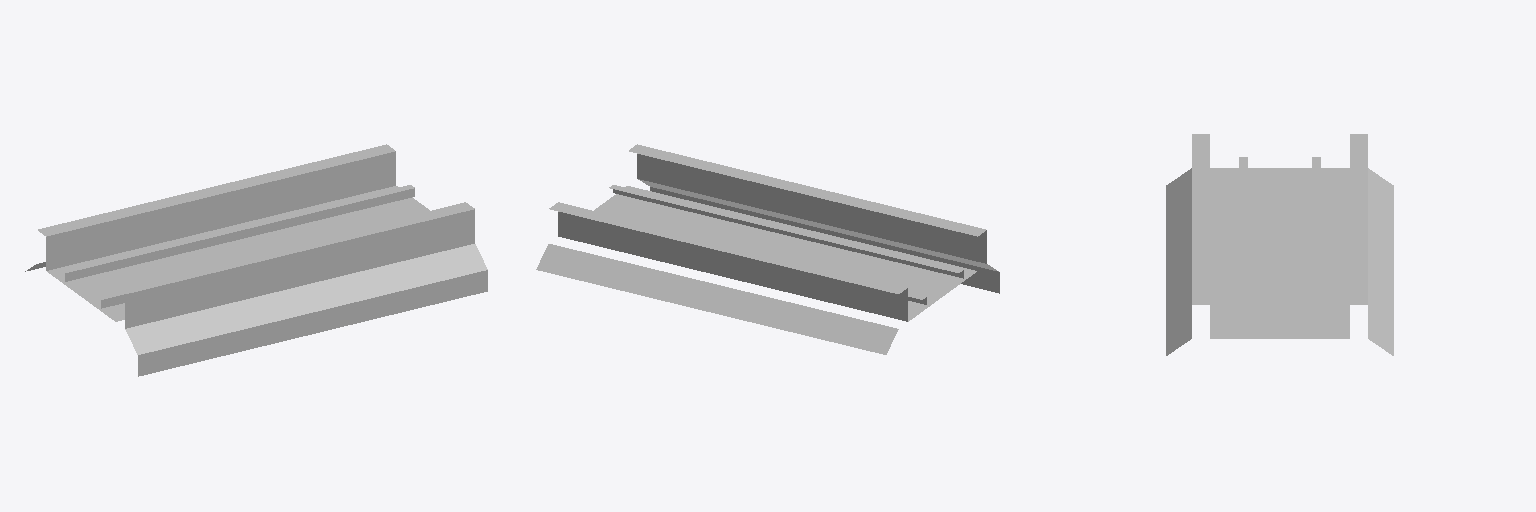
The model's file is Benches.obj.
3 renders of one model, left to right at view 1: azimuth 30°, elevation 25°; view 2: azimuth 150°, elevation 25°; view 3: azimuth 270°, elevation 25°, orthographic.
Parts seen in each view (by area): view 1: polygon0; view 2: polygon0; view 3: polygon0.
Boxes of the visible parts, x1,y1,x2,y2 form: polygon0: [25, 144, 487, 376]; polygon0: [536, 144, 999, 354]; polygon0: [1166, 134, 1393, 355].
Size of the model in its own units: 128 by 25.53 by 72.